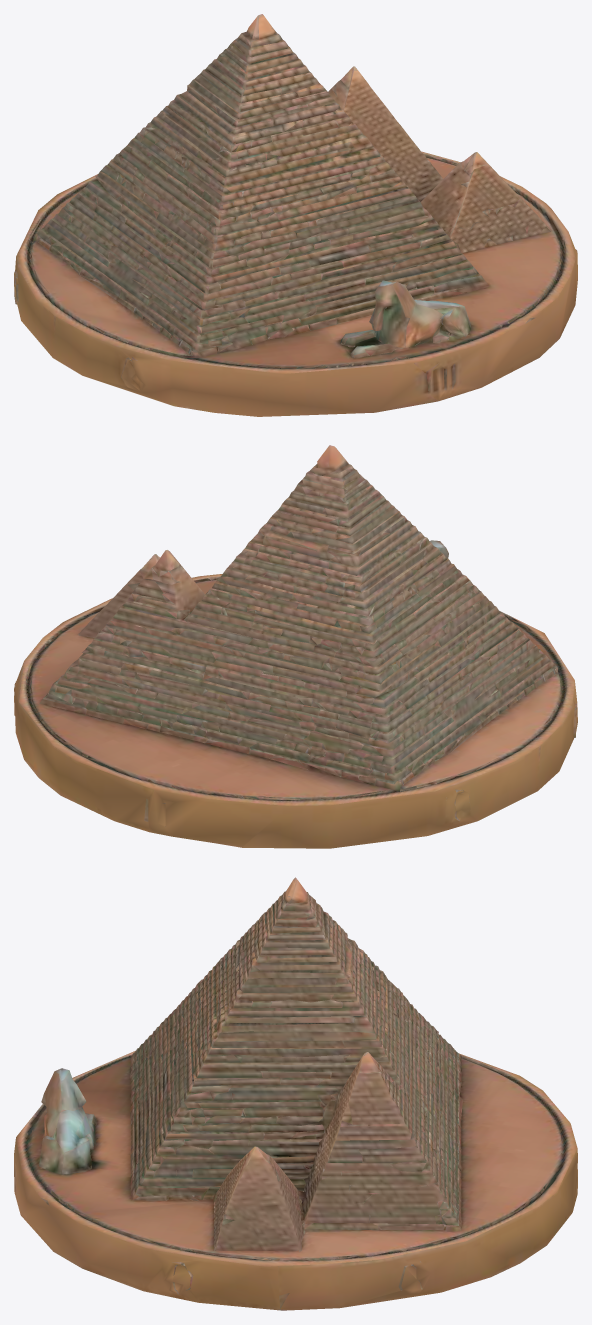
Rendered from pyramid_giza_diamond.glb.
3 renders of one model, top to bottom at view 1: azimuth 30°, elevation 25°; view 2: azimuth 150°, elevation 25°; view 3: azimuth 270°, elevation 25°, orthographic.
Visible parts, largest first — view 1: Mesh_0; view 2: Mesh_0; view 3: Mesh_0.
Part boxes in pixels (x1,y1,x2,y2): Mesh_0: (14,14,577,416); Mesh_0: (14,445,577,848); Mesh_0: (14,877,577,1310).
Size of the model in its own units: 1.91 by 1.11 by 1.91.
1 material, 1 textured.
